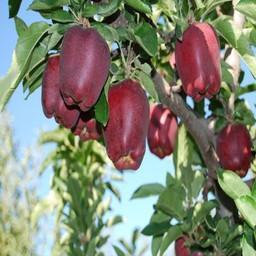apple: (58, 26, 110, 112), (102, 79, 149, 168), (174, 22, 223, 102), (214, 122, 253, 175)
